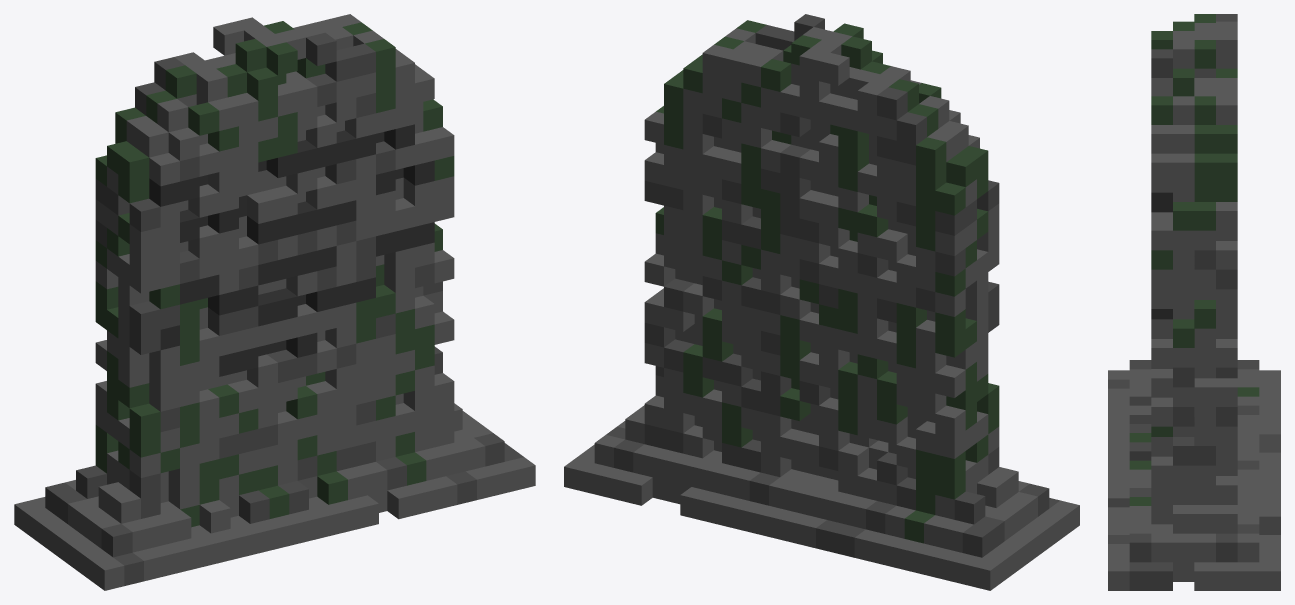
Rendered from grave_1w.obj.
3 renders of one model, left to right at view 1: azimuth 30°, elevation 25°; view 2: azimuth 150°, elevation 25°; view 3: azimuth 270°, elevation 25°, orthographic. The views are drawn at different scales.
Visible parts, largest first — view 1: grave_1w; view 2: grave_1w; view 3: grave_1w.
Boxes of the visible parts, left/top/right/bottom form: grave_1w: left=14, top=14, right=535, bottom=590; grave_1w: left=564, top=14, right=1079, bottom=590; grave_1w: left=1108, top=14, right=1280, bottom=590.
Size of the model in its own units: 2.2 by 2.3 by 0.8.
Materials: 1 (1 with a texture image).
